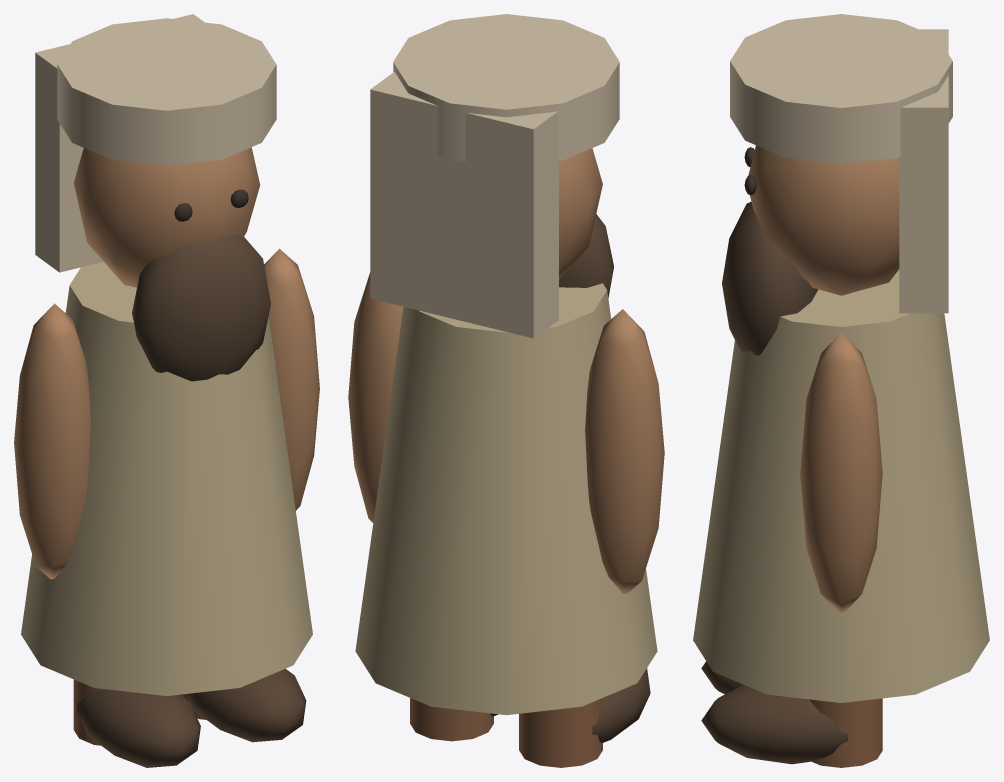
Rendered from resident-herodotus.glb.
3 renders of one model, left to right at view 1: azimuth 30°, elevation 25°; view 2: azimuth 150°, elevation 25°; view 3: azimuth 270°, elevation 25°, orthographic. The views are drawn at different scales.
Visible parts, largest first — view 1: resident-herodotus; view 2: resident-herodotus; view 3: resident-herodotus.
Part boxes in pixels (<box>): resident-herodotus: <box>14,14,319,767</box>; resident-herodotus: <box>348,14,664,767</box>; resident-herodotus: <box>693,14,989,767</box>.
Bounding box in the file's own units: 0.84 × 1.79 × 0.72.
